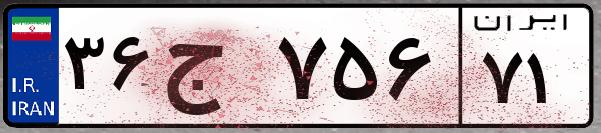1: (525, 38, 570, 115)
3: (57, 26, 110, 100)
5: (330, 28, 385, 110)
6: (385, 28, 445, 110), (110, 28, 158, 98)
7: (270, 28, 330, 110), (475, 38, 525, 113)
ج: (158, 20, 270, 120)
